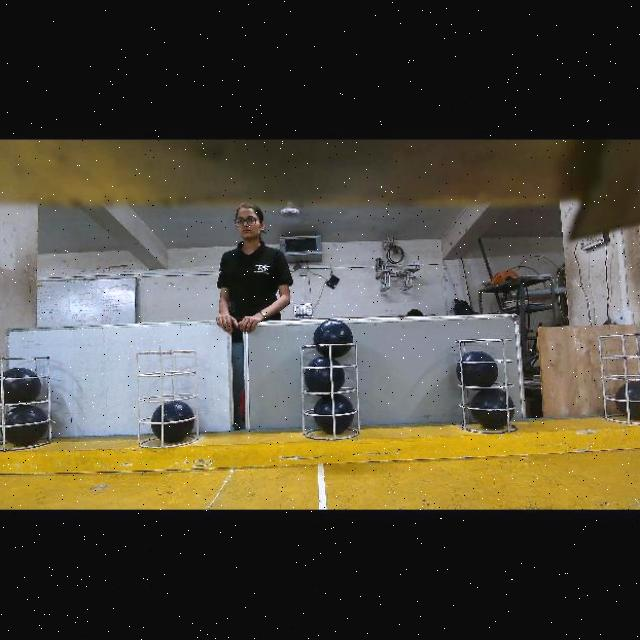P: (0, 403, 48, 444), (152, 400, 195, 442), (472, 388, 517, 428), (457, 350, 500, 390), (305, 355, 346, 396), (314, 318, 355, 357), (0, 367, 41, 406), (315, 394, 355, 433), (619, 382, 640, 420)
S: (454, 333, 524, 432), (136, 344, 200, 444), (299, 336, 357, 444), (0, 349, 54, 449), (594, 326, 640, 426)
